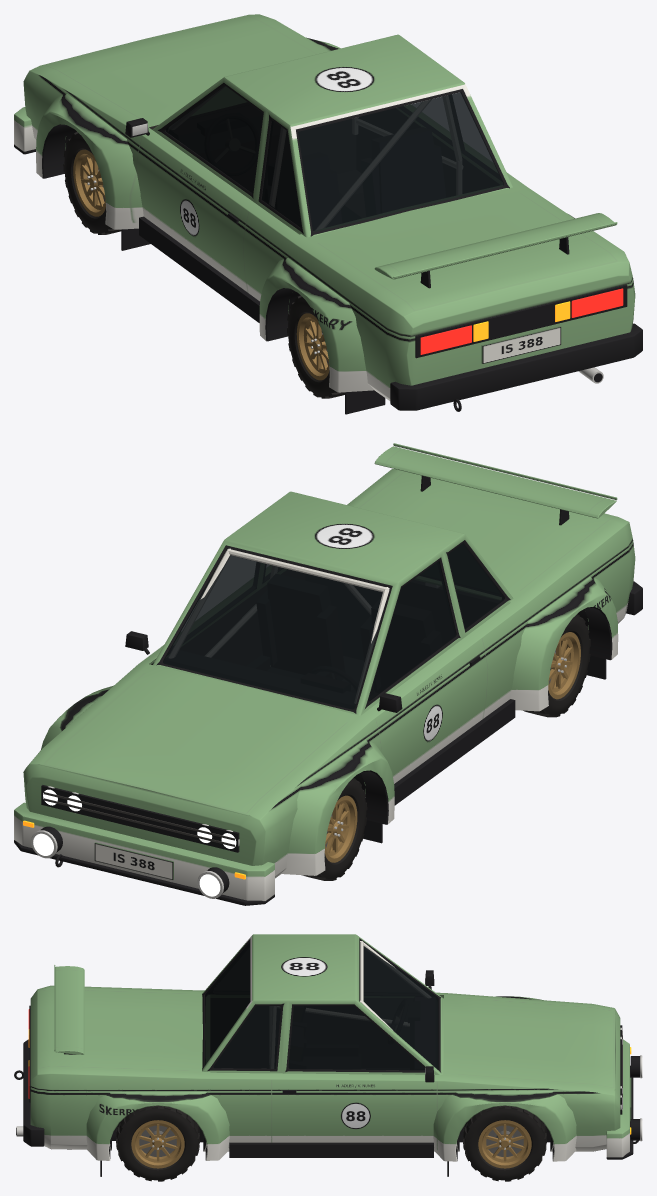
Rendered from CAR-018_Export.fbx.
3 renders of one model, top to bottom at view 1: azimuth 30°, elevation 25°; view 2: azimuth 150°, elevation 25°; view 3: azimuth 270°, elevation 25°, orthographic. The views are drawn at different scales.
Parts seen in each view (by area): view 1: CAR-018_Body, CAR-018_Glass, CAR-018_Bumper_Rear, CAR-018_Lights, CAR-018_Trim, CAR-018_Spoiler, CAR-018_Wheel_FL_Rim, CAR-018_Wheel_RL_Rim, CAR-018_Wheel_RL_Tire, CAR-018_Wheel_FL_Tire, CAR-018_MudFlaps, CAR-018_Bumper_Front; view 2: CAR-018_Body, CAR-018_Glass, CAR-018_Trim, CAR-018_Bumper_Front, CAR-018_Spoiler, CAR-018_Lights, CAR-018_Wheel_RL_Rim, CAR-018_Wheel_FL_Rim, CAR-018_Interior, CAR-018_Wheel_RL_Tire, CAR-018_Wheel_FL_Tire, CAR-018_Mirrors (+1 smaller); view 3: CAR-018_Body, CAR-018_Glass, CAR-018_Trim, CAR-018_Wheel_FR_Tire, CAR-018_Wheel_RR_Tire, CAR-018_Spoiler, CAR-018_Wheel_FR_Rim, CAR-018_Wheel_RR_Rim, CAR-018_Bumper_Front, CAR-018_Bumper_Rear, CAR-018_Lights, CAR-018_Interior.
Boxes of the visible parts, x1,y1,x2,y2 form: CAR-018_Body: (23, 14, 635, 400); CAR-018_Glass: (165, 86, 503, 231); CAR-018_Bumper_Rear: (390, 323, 642, 410); CAR-018_Lights: (415, 284, 627, 358); CAR-018_Trim: (139, 213, 603, 411); CAR-018_Spoiler: (374, 213, 617, 288); CAR-018_Wheel_FL_Rim: (73, 149, 105, 216); CAR-018_Wheel_RL_Rim: (296, 313, 329, 380); CAR-018_Wheel_RL_Tire: (287, 295, 344, 398); CAR-018_Wheel_FL_Tire: (63, 132, 121, 234); CAR-018_MudFlaps: (121, 228, 385, 414); CAR-018_Bumper_Front: (14, 107, 36, 154); CAR-018_Body: (23, 469, 635, 878); CAR-018_Glass: (163, 543, 504, 709); CAR-018_Trim: (41, 656, 515, 879); CAR-018_Bumper_Front: (14, 802, 274, 905); CAR-018_Spoiler: (374, 443, 617, 525); CAR-018_Lights: (23, 786, 245, 898); CAR-018_Wheel_RL_Rim: (548, 632, 580, 699); CAR-018_Wheel_FL_Rim: (324, 795, 357, 862); CAR-018_Interior: (200, 548, 389, 643); CAR-018_Wheel_RL_Tire: (523, 614, 590, 717); CAR-018_Wheel_FL_Tire: (301, 778, 367, 880); CAR-018_Mirrors: (125, 631, 402, 712); CAR-018_Body: (30, 934, 620, 1161); CAR-018_Glass: (205, 942, 438, 1070); CAR-018_Trim: (14, 1025, 638, 1157); CAR-018_Wheel_FR_Tire: (463, 1105, 546, 1181); CAR-018_Wheel_RR_Tire: (116, 1105, 199, 1181); CAR-018_Spoiler: (54, 965, 84, 1054); CAR-018_Wheel_FR_Rim: (478, 1120, 531, 1168); CAR-018_Wheel_RR_Rim: (131, 1120, 184, 1168); CAR-018_Bumper_Front: (606, 1039, 633, 1159); CAR-018_Bumper_Rear: (23, 1039, 44, 1146); CAR-018_Lights: (28, 1005, 642, 1141); CAR-018_Interior: (221, 941, 423, 1070).
Bounding box in the file's own units: 1.87 × 1.37 × 4.64.
Materials: 17 (2 with a texture image).
